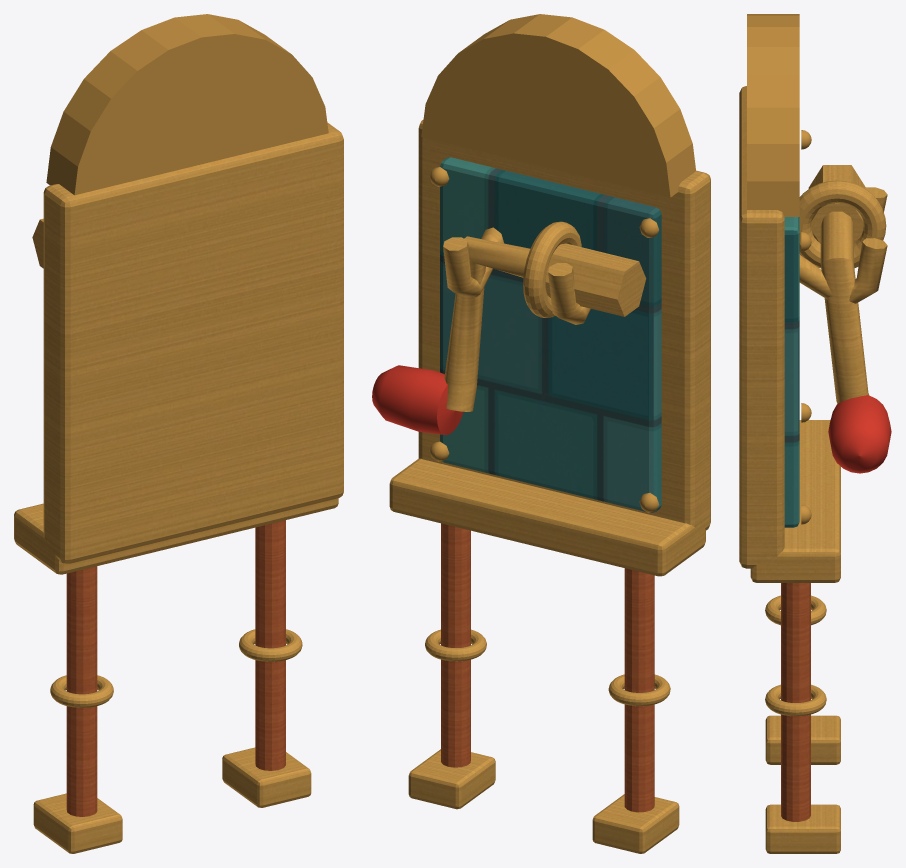
The model's file is act2_crank_mount.glb.
3 views of the same model, side by side, from view 1: azimuth 30°, elevation 25°; view 2: azimuth 150°, elevation 25°; view 3: azimuth 270°, elevation 25° (orthographic). The views are drawn at different scales.
Parts seen in each view (by area): view 1: SM_Crank_Stand; view 2: SM_Crank_Stand, ANIM_Crank_Pickup_Mesh; view 3: SM_Crank_Stand, ANIM_Crank_Pickup_Mesh.
Part boxes in pixels (x1,y1,x2,y2): SM_Crank_Stand: (14,14,343,853); SM_Crank_Stand: (389,14,710,853); ANIM_Crank_Pickup_Mesh: (372,221,646,435); SM_Crank_Stand: (739,14,887,853); ANIM_Crank_Pickup_Mesh: (799,165,891,473).
Size of the model in its own units: 0.422 by 1.13 by 0.202.
4 materials, 3 textured.
